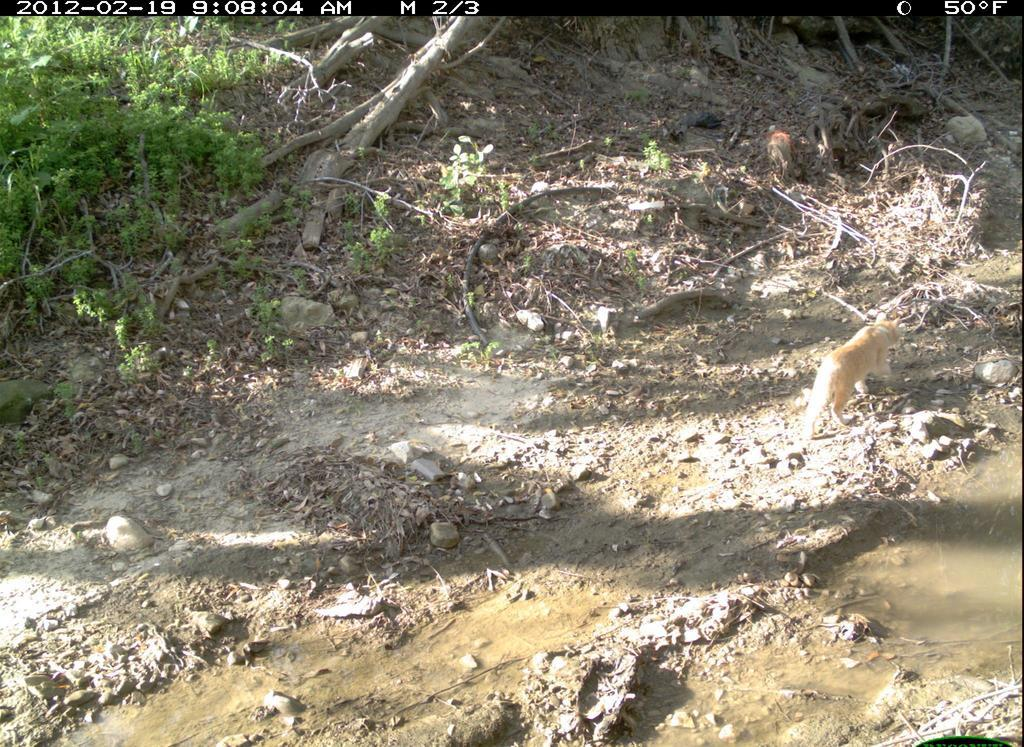cat: (793, 305, 907, 455)
